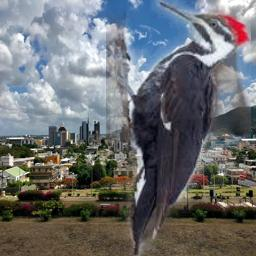Woodpecker: (106, 0, 251, 256)
